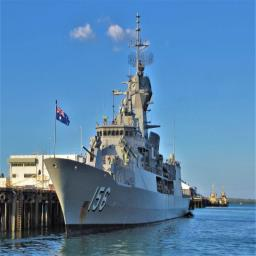Fragata: (43, 2, 192, 235)
